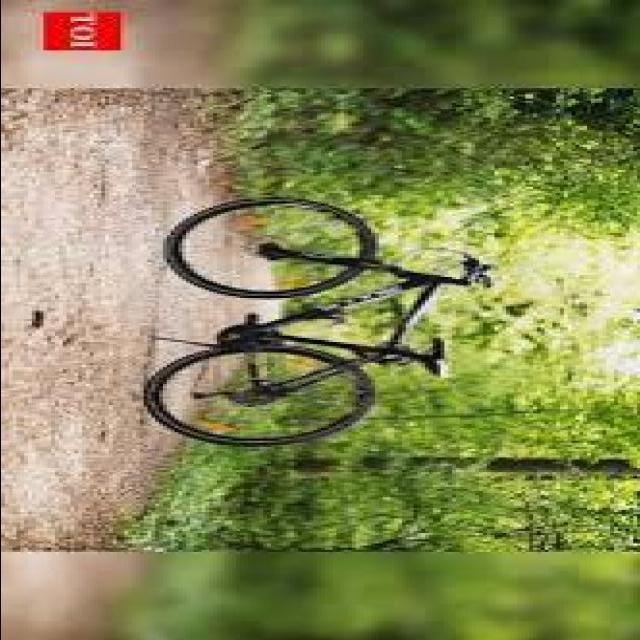bicycle: (147, 200, 490, 448)
